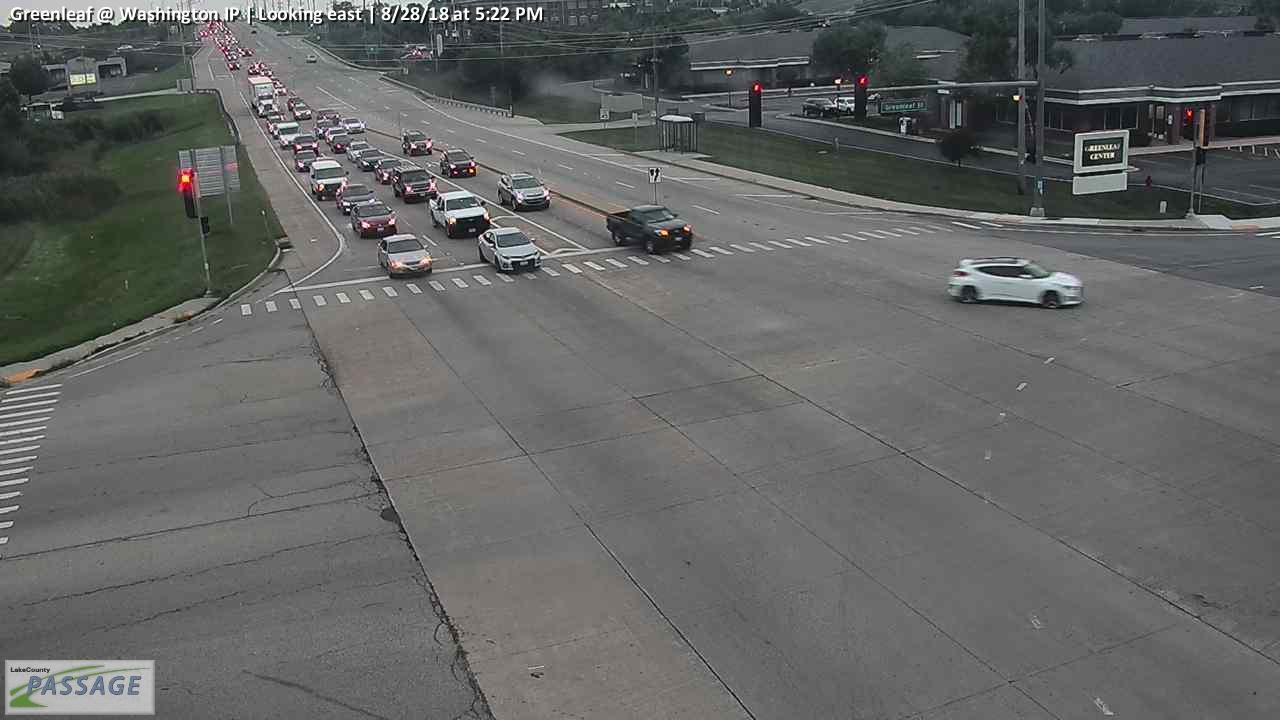SUV: (947, 256, 1084, 308), (496, 172, 551, 211), (391, 163, 438, 204), (308, 158, 349, 201), (440, 150, 478, 179), (801, 97, 839, 118), (402, 129, 432, 155), (277, 121, 303, 150), (834, 96, 868, 115), (293, 133, 320, 156), (313, 119, 337, 140), (317, 109, 341, 130), (324, 127, 349, 145), (292, 103, 312, 121)
Sedan: (478, 227, 544, 272), (376, 233, 433, 278), (350, 200, 399, 239), (335, 183, 376, 216), (373, 156, 403, 184), (265, 111, 287, 140), (356, 148, 383, 171), (345, 141, 372, 164), (294, 149, 317, 172), (338, 117, 366, 134), (329, 134, 354, 153)
Truck: (606, 204, 694, 253), (429, 190, 490, 239), (248, 76, 280, 117)
